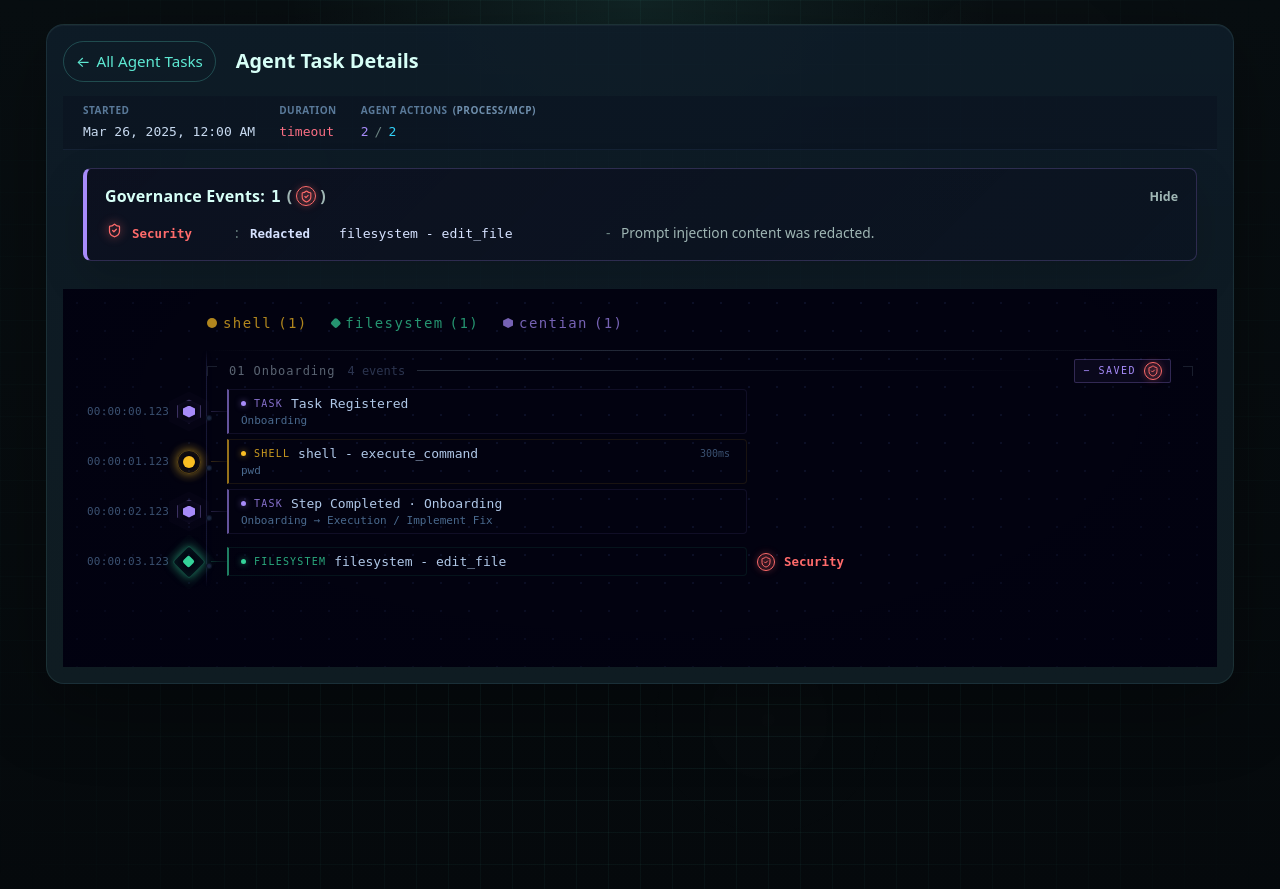
Test: task run detail › renders grouped mixed timeline exchanges and shows selected details in the side inspector
Check: the heading "Agent Task Details" is shown, box [236,50,419,72]
Check: the element labelled "Onboarding" is shown, box [87,350,1193,586]
Click the button "Governance Events: 1 ( ) Hide": (185, 196) [87,169,1196,221]
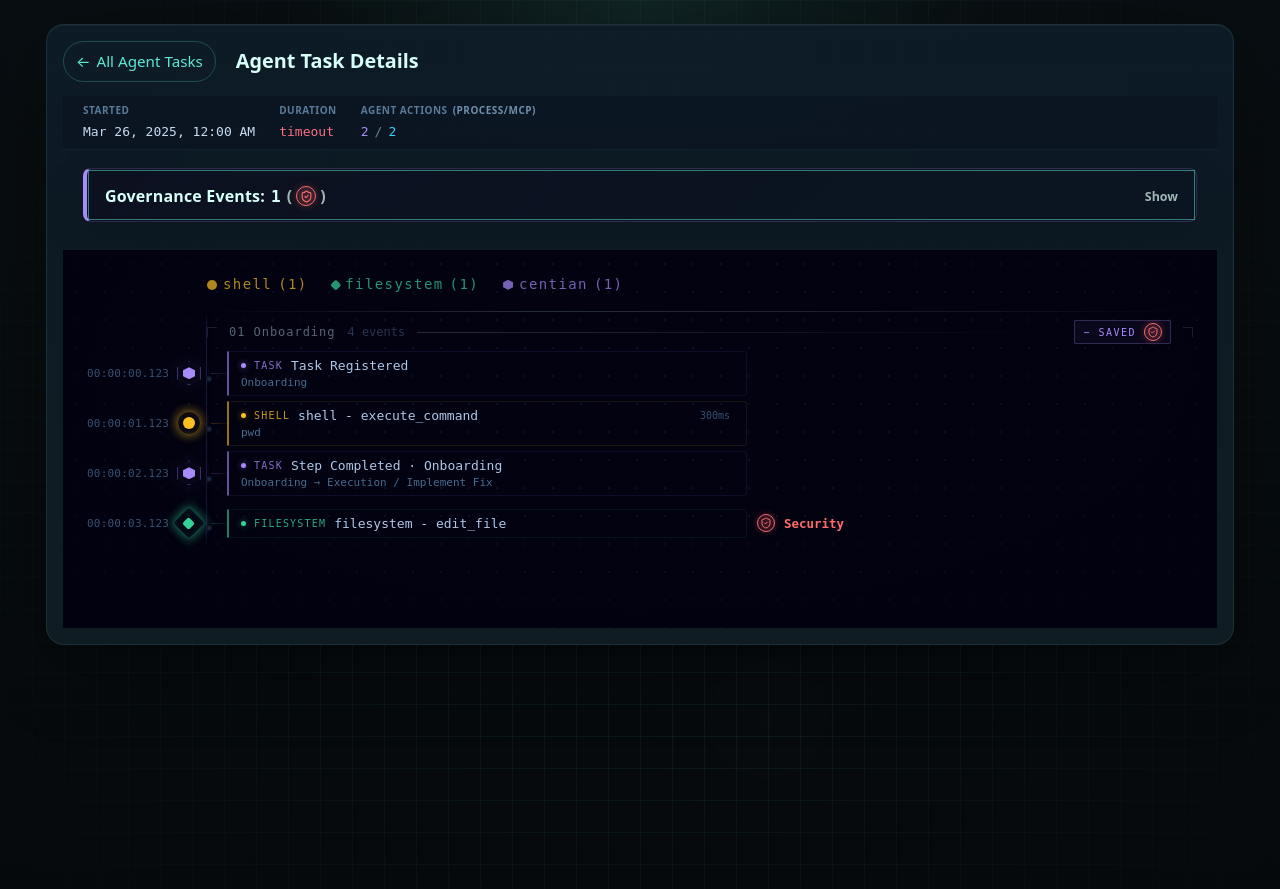
Check: the element named "Agent Actions (Process/MCP): Process 2, MCP 2" is shown, box [361,104,536,141]
Check: the text "Inspector" is not shown
Click the button with aria-label "show event details for execute_command": (640, 423) [87,398,1193,448]
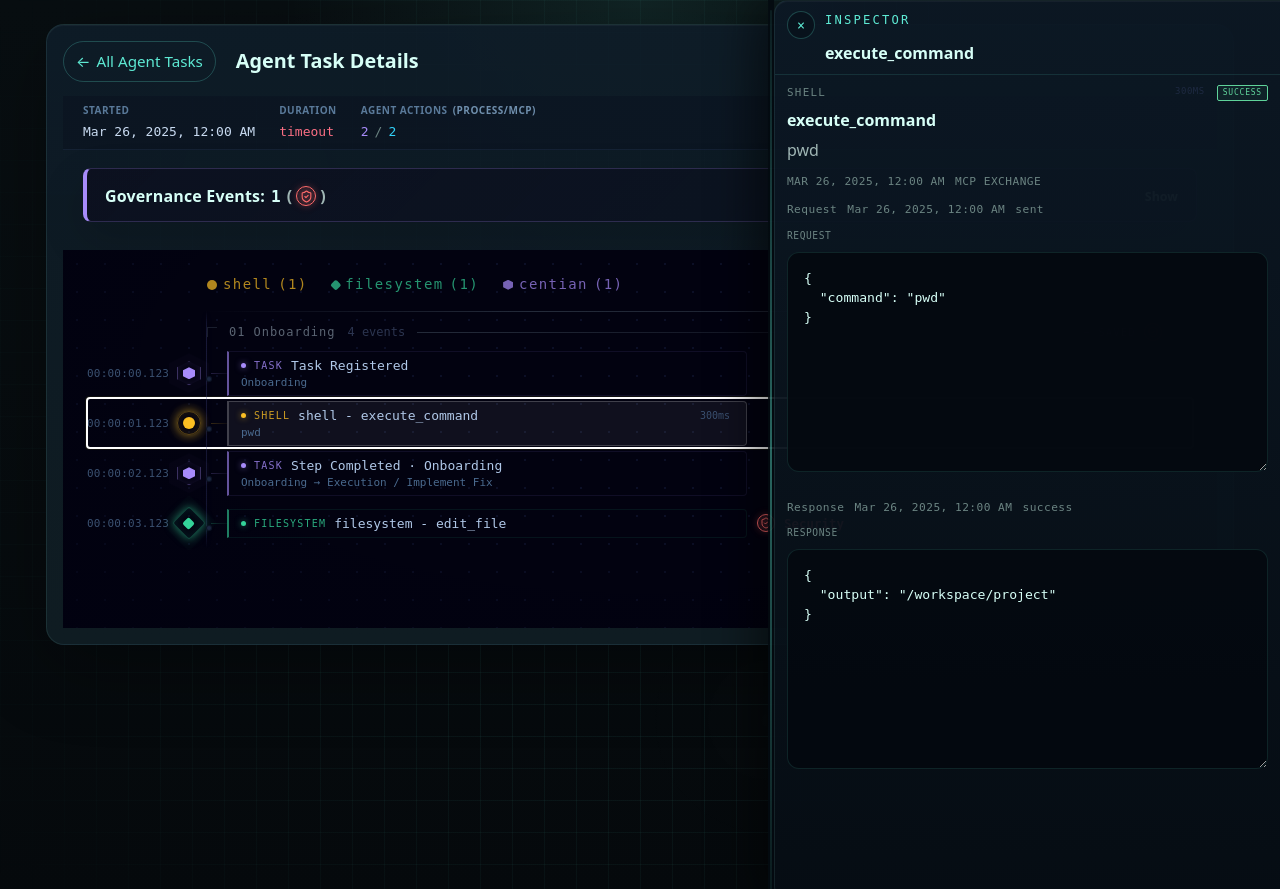
Check: the text "Request" is shown 2 times, box [787,202,837,219]; [787,230,831,241]
Check: the text "Response" is shown 2 times, box [787,500,844,516]; [787,527,838,538]
Check: the text "{ \"command\": \"pwd\" }" is shown, box [787,252,1268,472]
Click the button with aria-label "show event details for step completed": (640, 473) [87,448,1193,498]
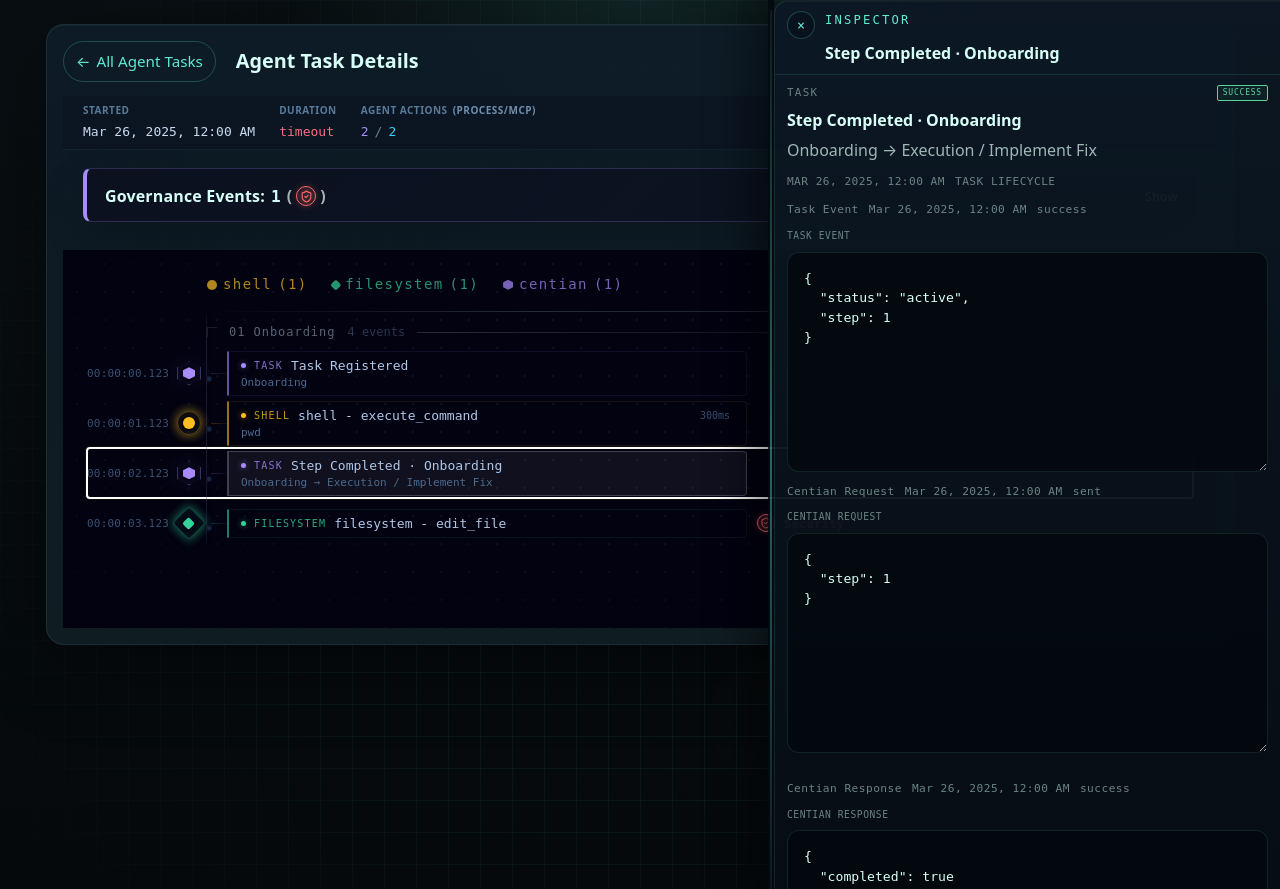
Check: the text "\"nested\": true" is not shown
Check: the text "Centian Request" is shown 2 times, box [787,484,895,500]; [787,511,882,522]
Check: the text "Centian Response" is shown 2 times, box [787,781,902,798]; [787,808,888,820]
Click the button with aria-label "show event details for edit_file": (640, 523) [87,498,1193,548]
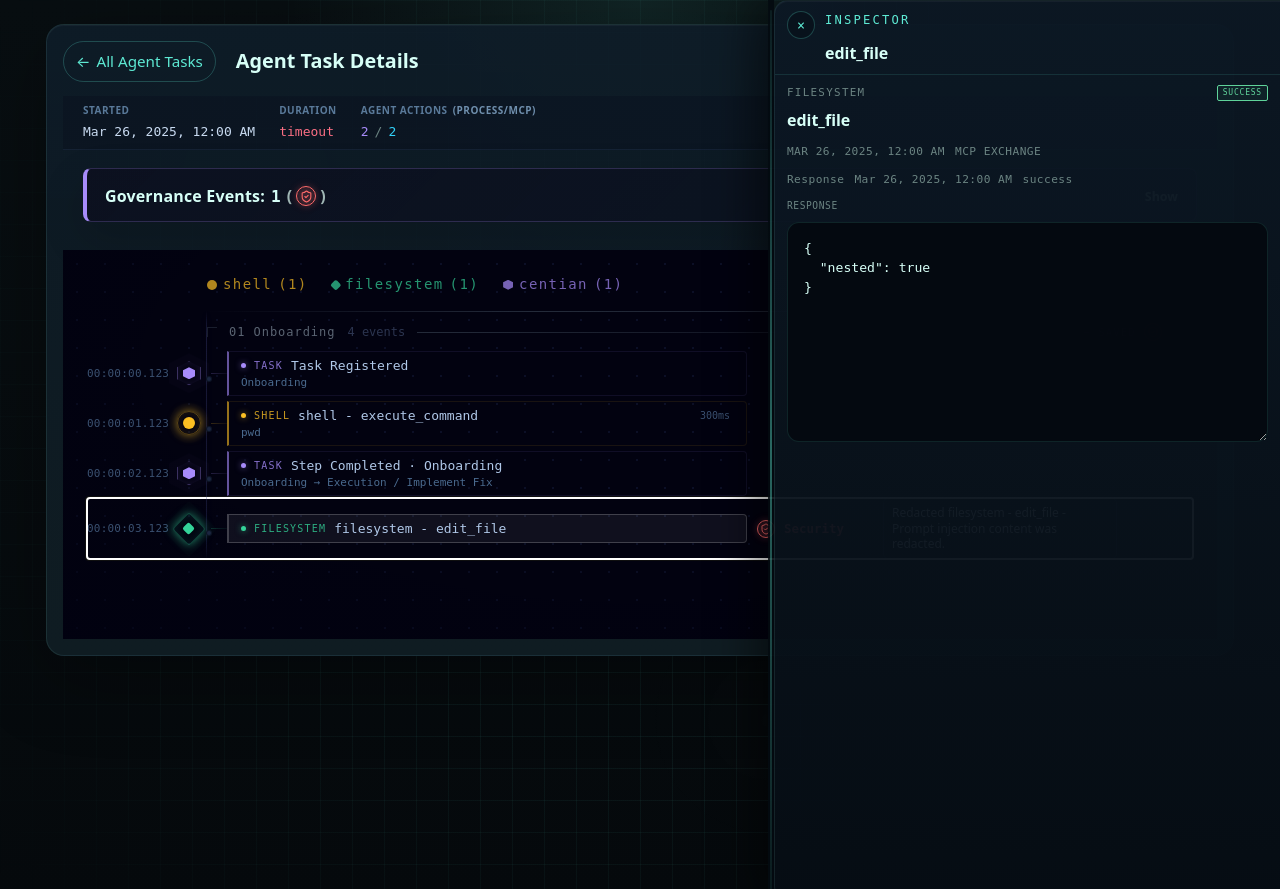
Check: the text "Step Completed · Onboarding" is shown, box [291,458,502,473]
Check: the text "{ \"nested\": true }" is shown, box [787,222,1268,442]
